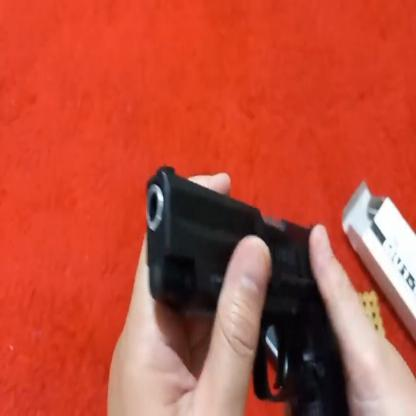handgun: (140, 154, 346, 407)
